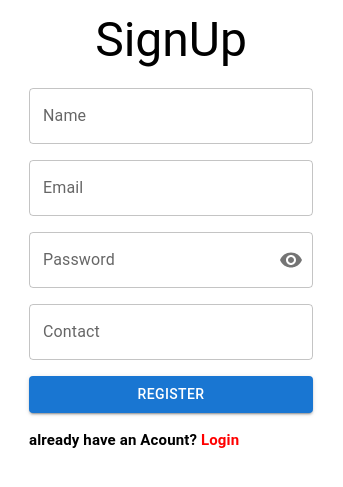
Test: Register Page unit Tests › Testing for should show error for password validating for Uppercase and lower case  letters
Step 1. Type "test12345" into the password field labelled "Password" → (146, 260), box [29, 232, 263, 288]
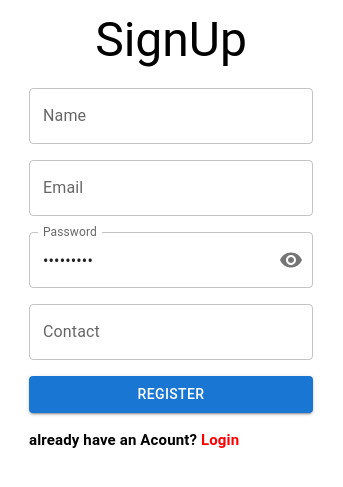
Step 2. Leave the password field labelled "Password", box [29, 232, 263, 288]
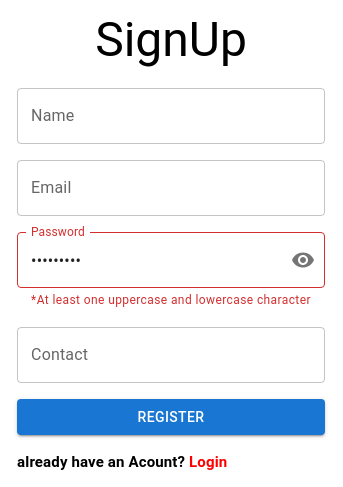
Now the text "*At least one uppercase and lowercase character" is shown, box [31, 291, 311, 311]
